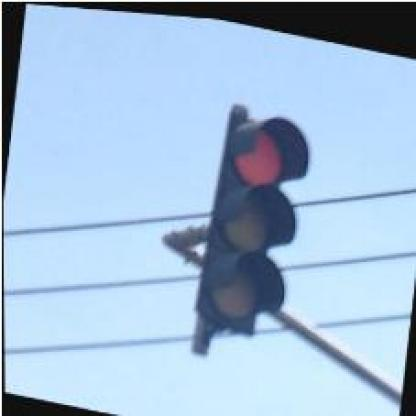red: (184, 97, 314, 335)
